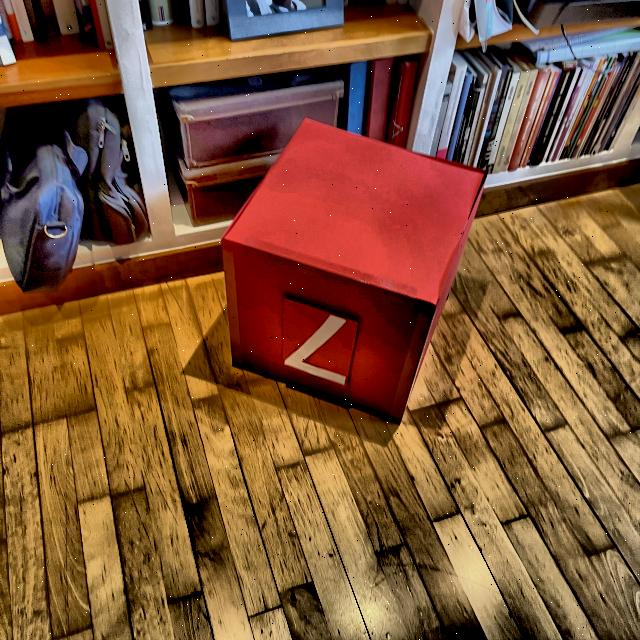red box: (225, 122, 480, 426)
seven: (282, 314, 354, 386)
